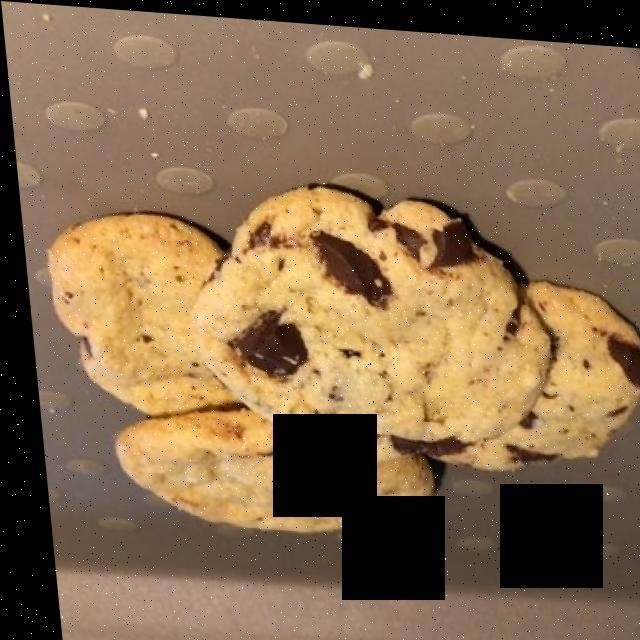cookies: (43, 185, 638, 532)
